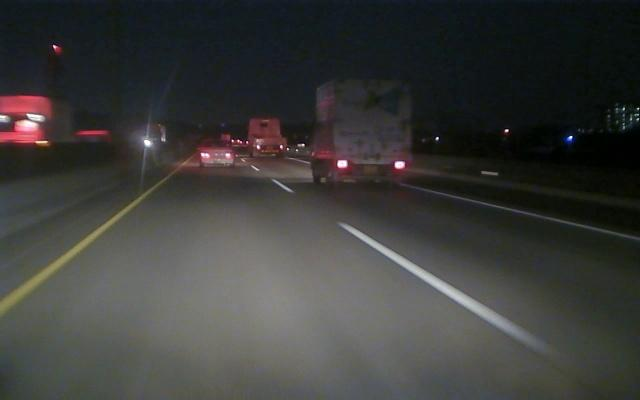lane: (253, 165, 554, 352), (288, 157, 639, 241), (1, 192, 147, 317)
